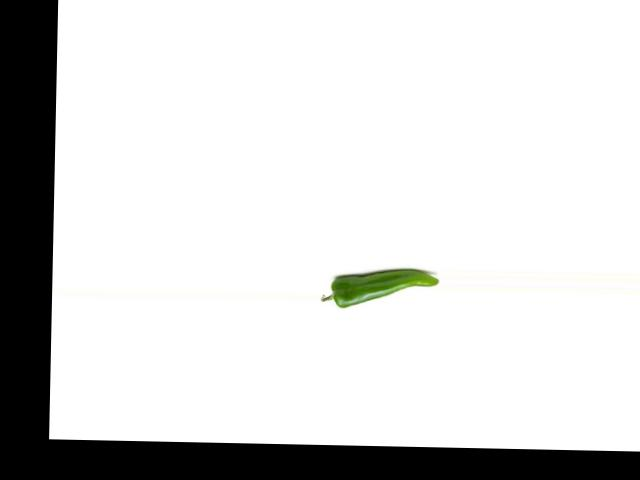bell_pepper: (316, 264, 439, 312)
